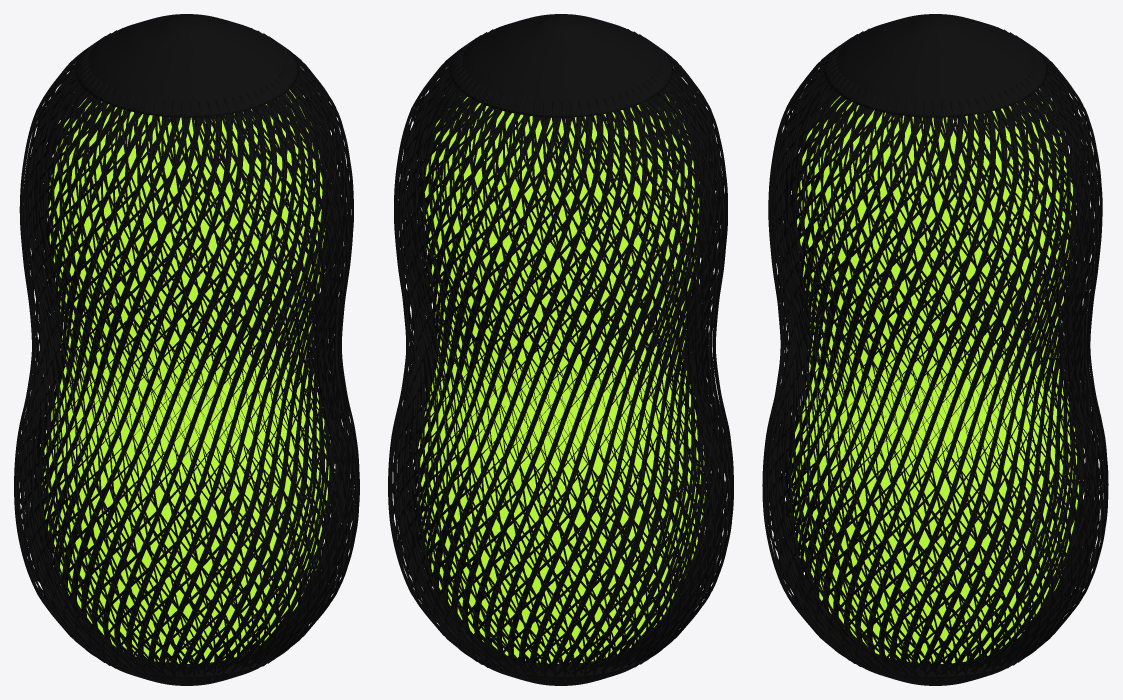
3 views of the same model, side by side, from view 1: azimuth 30°, elevation 25°; view 2: azimuth 150°, elevation 25°; view 3: azimuth 270°, elevation 25° (orthographic).
Visible parts, largest first — view 1: mayu_em, mayu_e, mayu_b, mayu_d, mayu_c2, mayu_c1, mayu_a, mayu_cap_top, mayu_cap_bot; view 2: mayu_em, mayu_e, mayu_b, mayu_d, mayu_c2, mayu_c1, mayu_a, mayu_cap_top, mayu_cap_bot; view 3: mayu_em, mayu_e, mayu_b, mayu_d, mayu_c2, mayu_c1, mayu_a, mayu_cap_top, mayu_cap_bot.
Boxes of the visible parts, bbox=[...] form: mayu_em: bbox=[43, 89, 329, 663]; mayu_e: bbox=[14, 28, 359, 681]; mayu_b: bbox=[27, 78, 348, 670]; mayu_d: bbox=[17, 62, 357, 674]; mayu_c2: bbox=[19, 69, 353, 674]; mayu_c1: bbox=[23, 75, 349, 672]; mayu_a: bbox=[30, 77, 343, 668]; mayu_cap_top: bbox=[74, 14, 298, 117]; mayu_cap_bot: bbox=[85, 626, 288, 685]; mayu_em: bbox=[417, 94, 704, 663]; mayu_e: bbox=[388, 29, 733, 681]; mayu_b: bbox=[401, 78, 721, 670]; mayu_d: bbox=[390, 63, 731, 674]; mayu_c2: bbox=[393, 67, 728, 674]; mayu_c1: bbox=[397, 74, 724, 672]; mayu_a: bbox=[405, 78, 716, 669]; mayu_cap_top: bbox=[449, 14, 673, 117]; mayu_cap_bot: bbox=[459, 628, 665, 685]; mayu_em: bbox=[791, 88, 1079, 663]; mayu_e: bbox=[762, 27, 1108, 681]; mayu_b: bbox=[775, 76, 1096, 670]; mayu_d: bbox=[766, 61, 1106, 674]; mayu_c2: bbox=[769, 68, 1102, 674]; mayu_c1: bbox=[773, 73, 1098, 672]; mayu_a: bbox=[779, 84, 1091, 669]; mayu_cap_top: bbox=[823, 14, 1047, 117]; mayu_cap_bot: bbox=[830, 617, 1039, 685].
Bounding box in the file's own units: 0.9784 × 2.04 × 0.9786.
